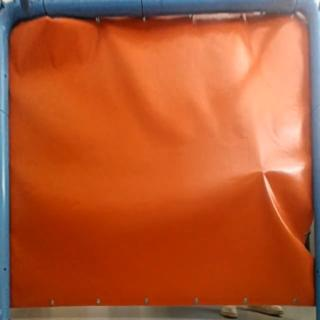Hit-hRxx: (257, 167, 271, 178)
